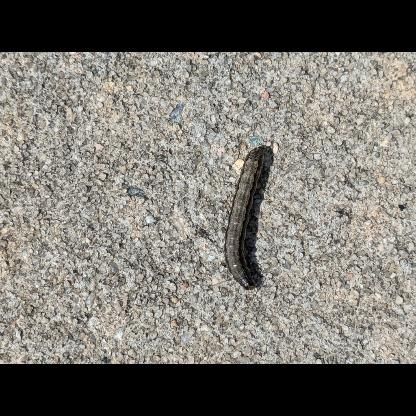Fall Armyworm Larvae: (222, 146, 266, 292)
